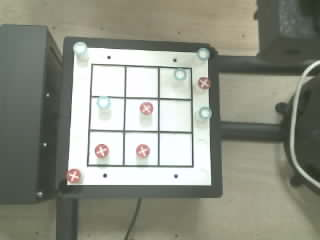blue circle: (73, 42, 87, 55), (97, 96, 110, 109), (199, 107, 212, 120), (197, 48, 210, 60), (174, 68, 186, 79)
board: (66, 42, 212, 186)
cells: (92, 65, 125, 97), (89, 132, 122, 164), (125, 133, 157, 165), (91, 98, 123, 129), (125, 99, 157, 130), (160, 100, 191, 131), (160, 134, 191, 165), (160, 68, 191, 98), (126, 67, 157, 97)
grid: (87, 64, 193, 167)
red cross: (95, 144, 108, 158), (66, 169, 80, 182), (136, 144, 149, 157), (140, 102, 152, 114), (198, 77, 210, 89)
